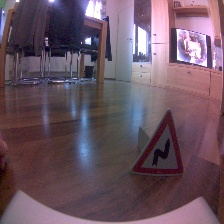vorsicht: (129, 108, 187, 178)
